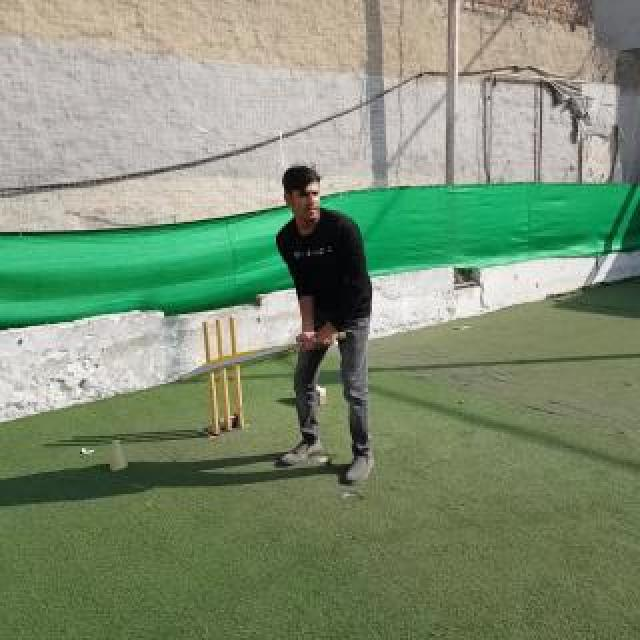bat: (180, 332, 348, 382)
